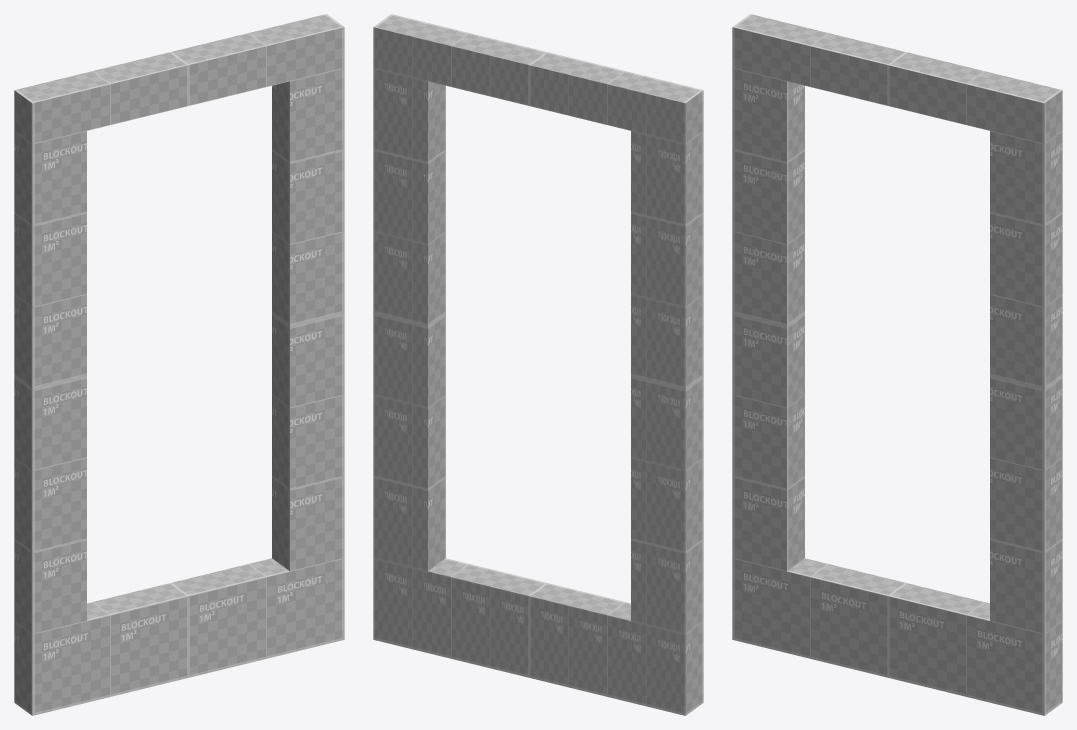
The model's file is BlockoutThinWall04WindowFull.fbx.
3 views of the same model, side by side, from view 1: azimuth 30°, elevation 25°; view 2: azimuth 150°, elevation 25°; view 3: azimuth 330°, elevation 25° (orthographic).
Parts seen in each view (by area): view 1: BlockoutThinWall04WindowFull; view 2: BlockoutThinWall04WindowFull; view 3: BlockoutThinWall04WindowFull.
Boxes of the visible parts, bbox=[...] form: BlockoutThinWall04WindowFull: bbox=[14, 14, 344, 715]; BlockoutThinWall04WindowFull: bbox=[373, 14, 703, 715]; BlockoutThinWall04WindowFull: bbox=[732, 14, 1062, 715].
Size of the model in its own units: 400 by 750 by 40.
